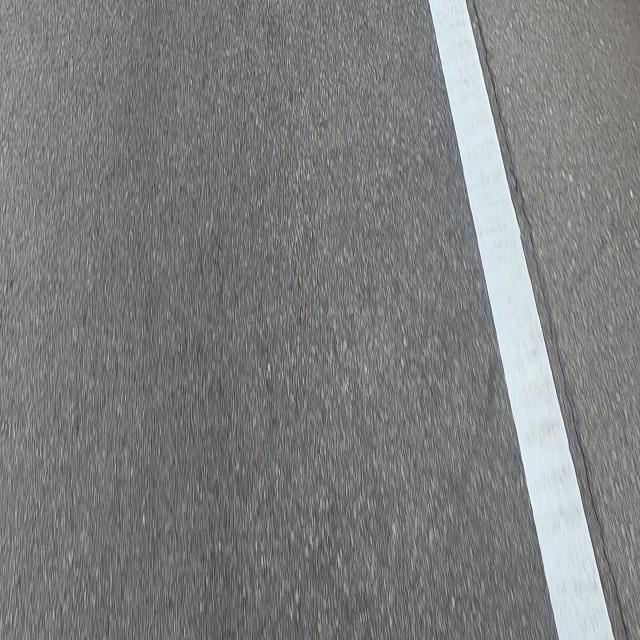Retak-Memanjang: (468, 0, 633, 640)
